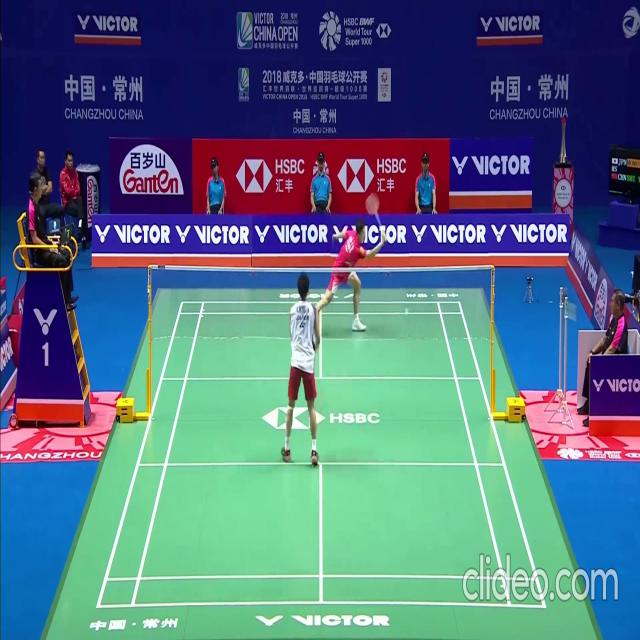Shuttlecock: (404, 305, 409, 312)
